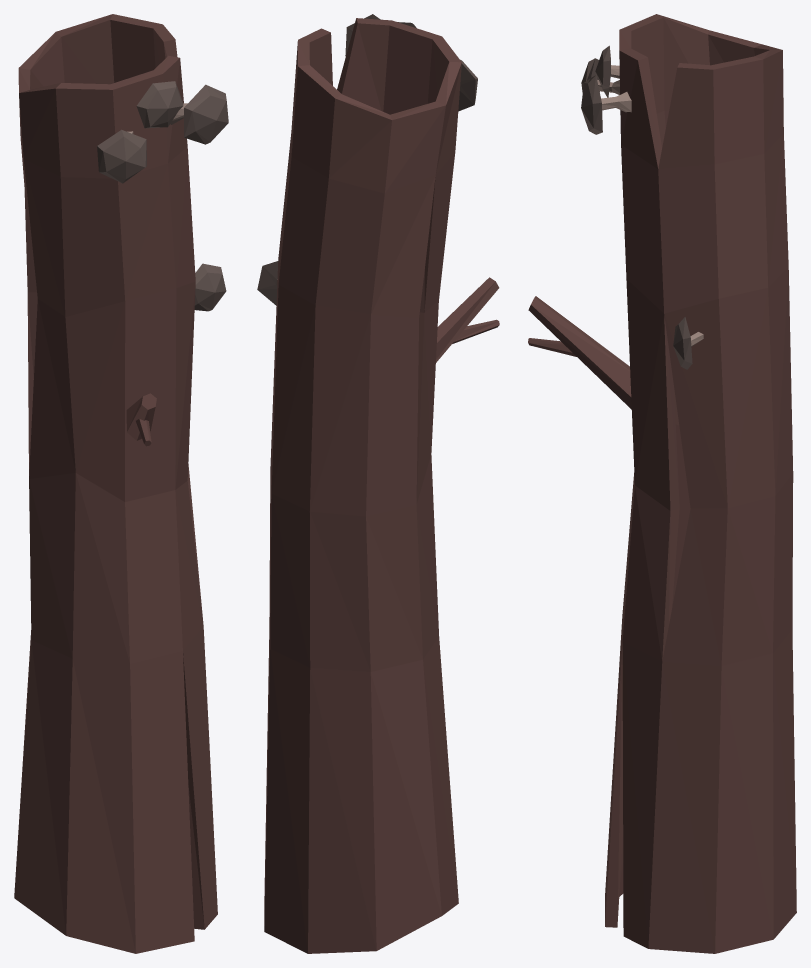
File: log.obj
3 views of the same model, side by side, from view 1: azimuth 30°, elevation 25°; view 2: azimuth 150°, elevation 25°; view 3: azimuth 270°, elevation 25° (orthographic).
Parts seen in each view (by area): view 1: log; view 2: log; view 3: log.
Boxes of the visible parts, left/top/right/bottom form: log: left=14, top=14, right=228, bottom=953; log: left=257, top=14, right=499, bottom=953; log: left=528, top=14, right=796, bottom=953.
Size of the model in its own units: 22.75 by 96 by 26.9.
